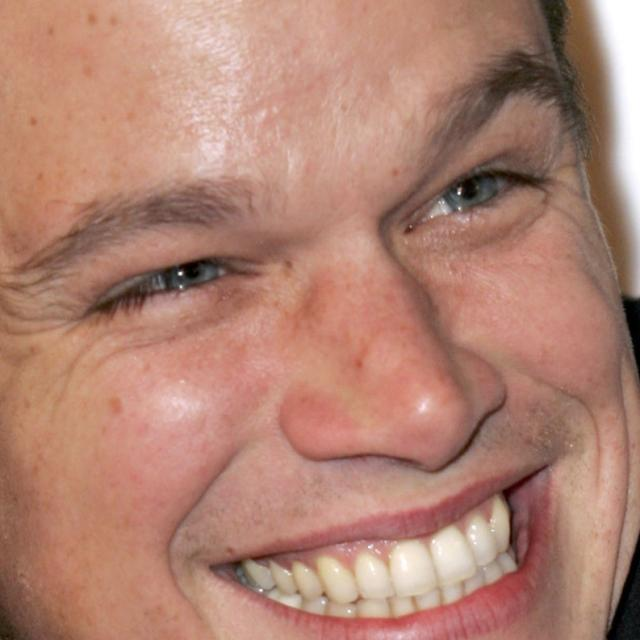Normal: (2, 2, 639, 639)
